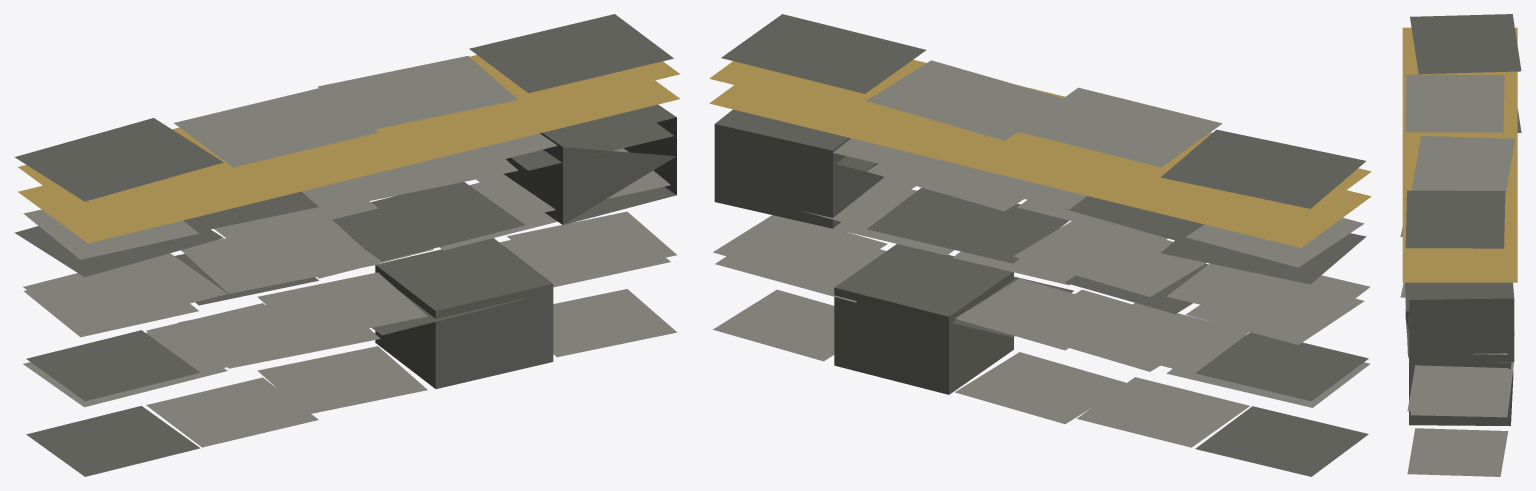
The model's file is prop_dolddam_lod1.glb.
3 views of the same model, side by side, from view 1: azimuth 30°, elevation 25°; view 2: azimuth 150°, elevation 25°; view 3: azimuth 270°, elevation 25° (orthographic). The views are drawn at different scales.
Visible parts, largest first — view 1: prop_dolddam_lod1; view 2: prop_dolddam_lod1; view 3: prop_dolddam_lod1.
Boxes of the visible parts, x1,y1,x2,y2 form: prop_dolddam_lod1: (14,14,680,476); prop_dolddam_lod1: (709,14,1371,476); prop_dolddam_lod1: (1400,14,1521,476).
Size of the model in its own units: 3.07 by 1.33 by 0.6531.
